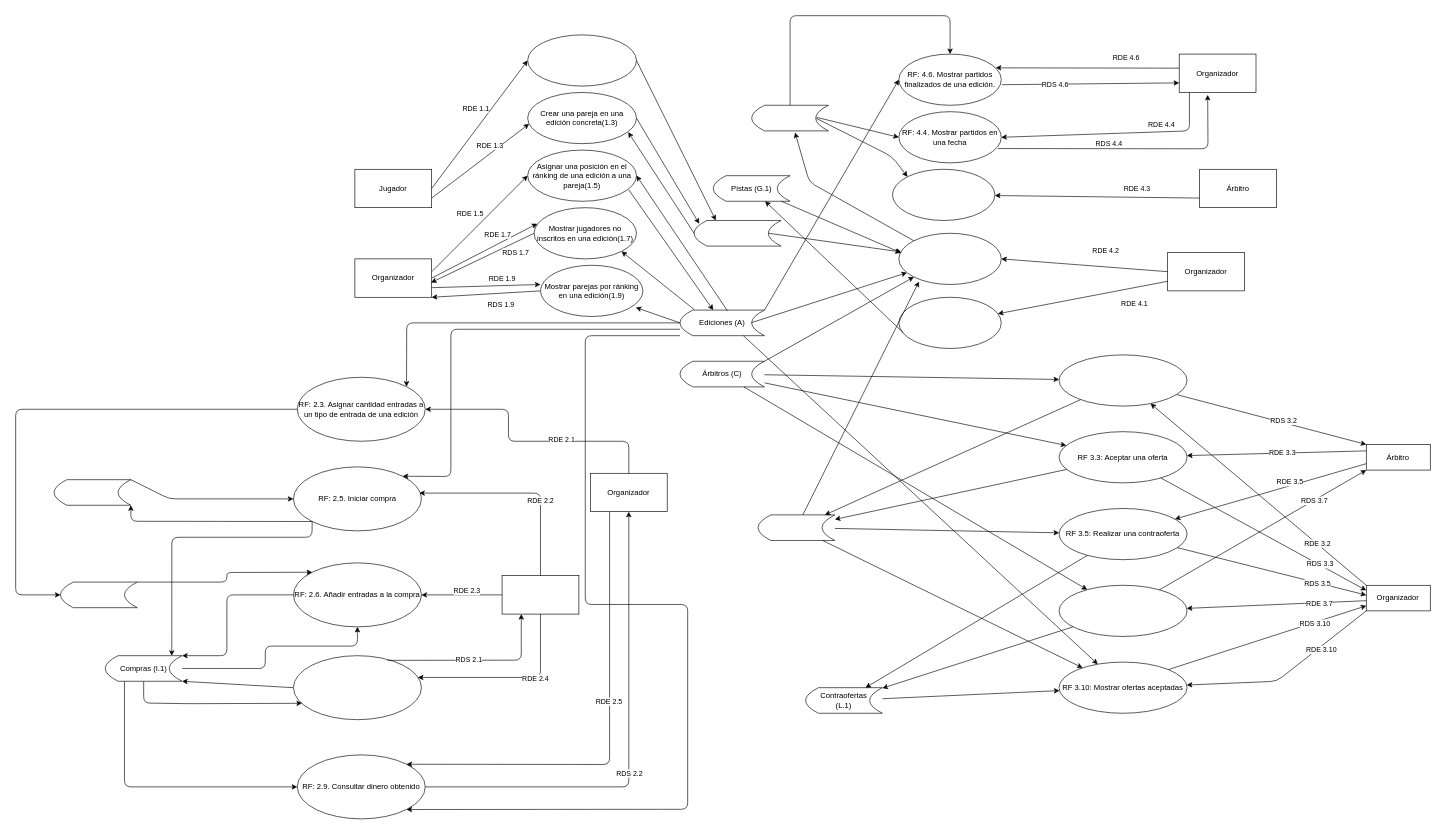
Some shapes in this 1442 by 830 pixel diagram are drawn without their labels. Each missing label, with the centre of its shape:
"Entradas (H.1)" goes at pixel 98 594.
"Insertar un nuevo jugador(1.1)" goes at pixel 581 60.
"Ofertas (K.1)" goes at pixel 796 527.
"Parejas (B)" goes at pixel 737 233.
"Partidos (F.1)" goes at pixel 789 118.
"RF 3.2: Realizar una oferta a un árbitro" goes at pixel 1122 380.
"RF 3.7: Rechazar una contraoferta" goes at pixel 1122 610.
"RF: 2.7. Finalizar compra" goes at pixel 357 687.
"RF: 4.1. Insertar una pista" goes at pixel 949 322.
"RF: 4.2. Insertar un partido" goes at pixel 949 258.
"RF: 4.3.Añadir resultado a un partido" goes at pixel 943 194.
"Usuario" goes at pixel 540 594.
"Usuarios (E.1)" goes at pixel 92 492.
